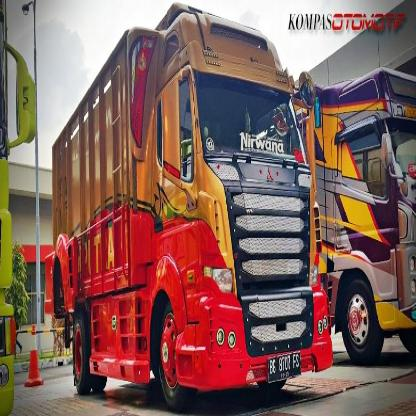truck: (51, 1, 330, 403)
